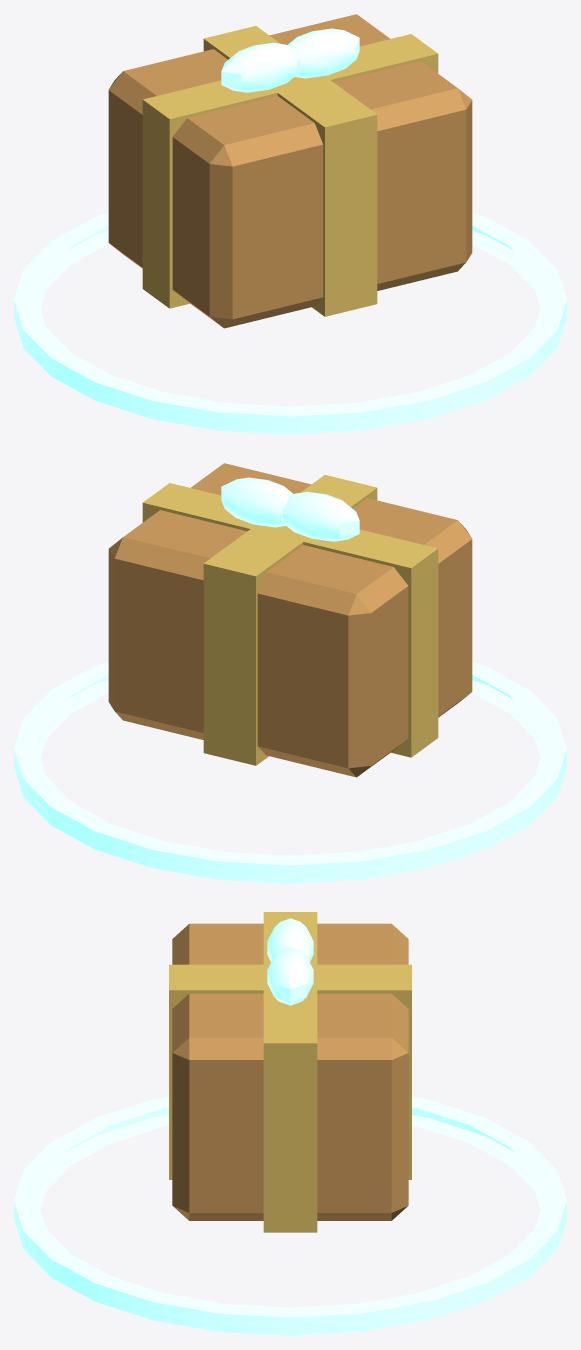
File: parcel.glb
3 renders of one model, top to bottom at view 1: azimuth 30°, elevation 25°; view 2: azimuth 150°, elevation 25°; view 3: azimuth 270°, elevation 25°, orthographic.
Visible parts, largest first — view 1: parcel; view 2: parcel; view 3: parcel.
Boxes of the visible parts, x1,y1,x2,y2 form: parcel: (14,14,566,434); parcel: (14,463,566,883); parcel: (14,912,566,1335).
Bounding box in the file's own units: 1.64 × 0.912 × 1.64.
